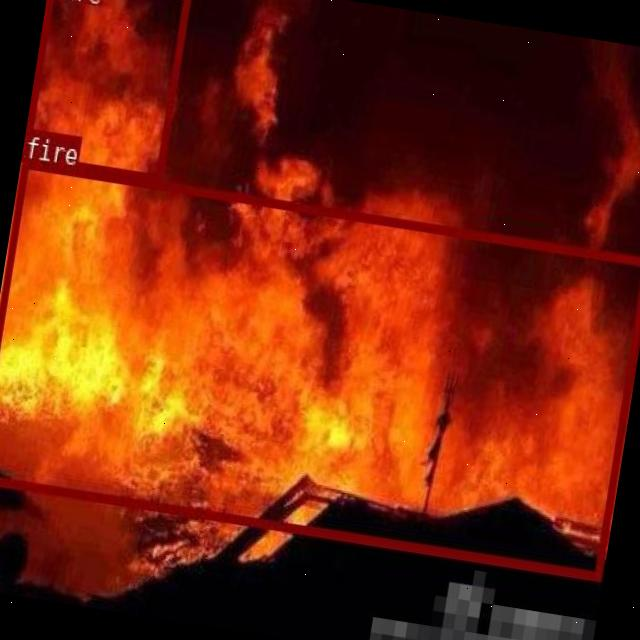fire: (0, 159, 640, 579), (21, 0, 191, 182)
